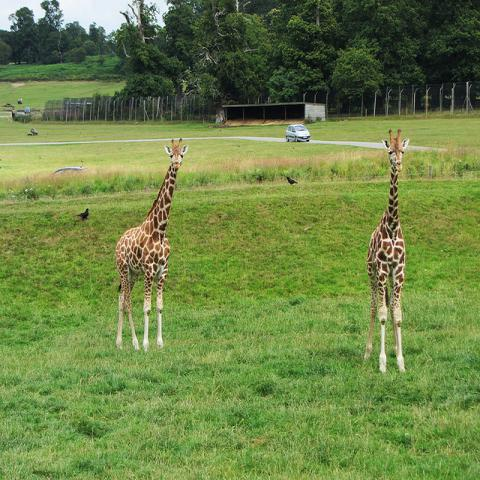car: (285, 123, 310, 143), (25, 107, 30, 114)
